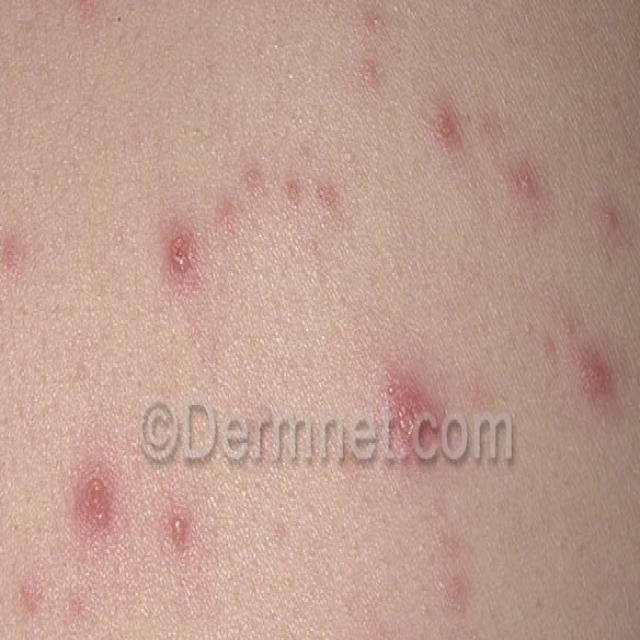Viral Infections: (430, 89, 638, 270), (551, 305, 624, 424), (242, 160, 349, 239), (145, 212, 222, 315), (435, 513, 483, 640), (390, 380, 449, 481), (7, 572, 92, 638), (69, 467, 129, 558), (354, 7, 402, 119), (155, 503, 201, 581), (0, 199, 31, 282)
